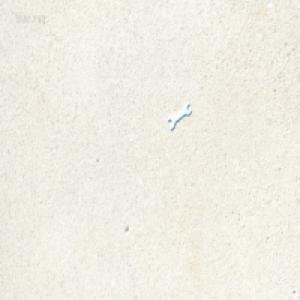Wrench: (167, 100, 189, 129)
